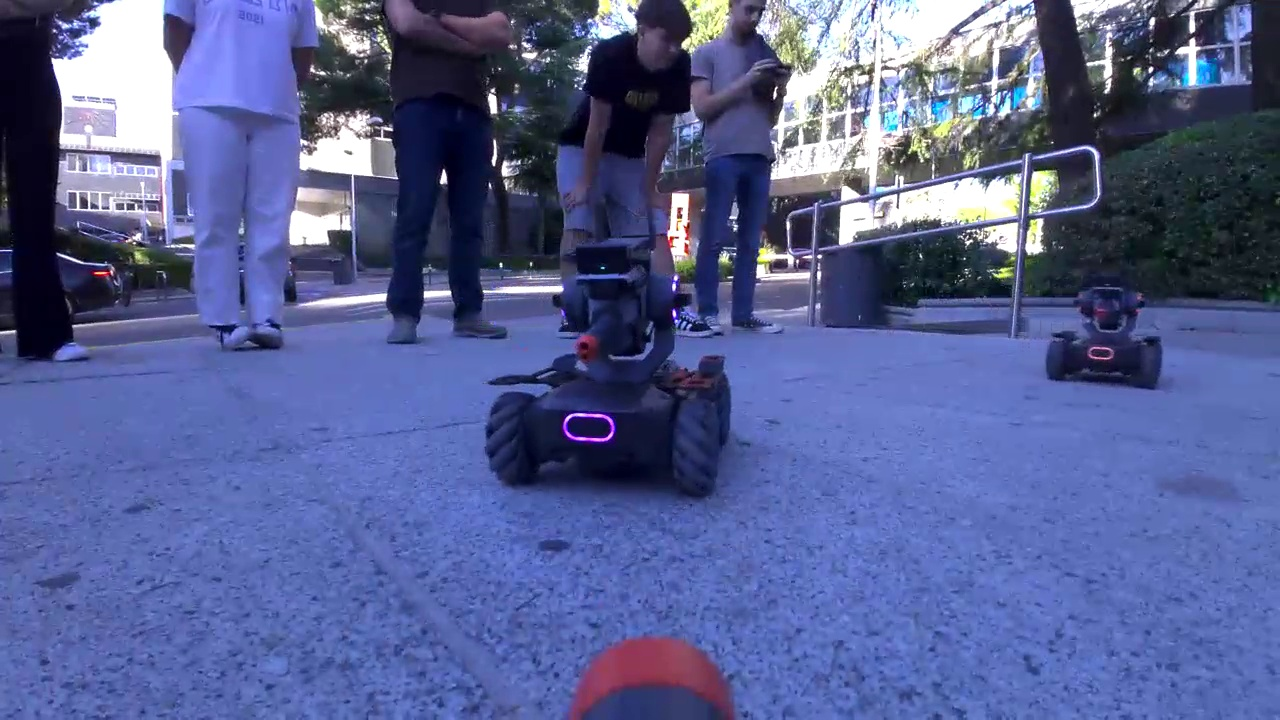robot: (483, 234, 734, 501), (1045, 275, 1164, 390)
